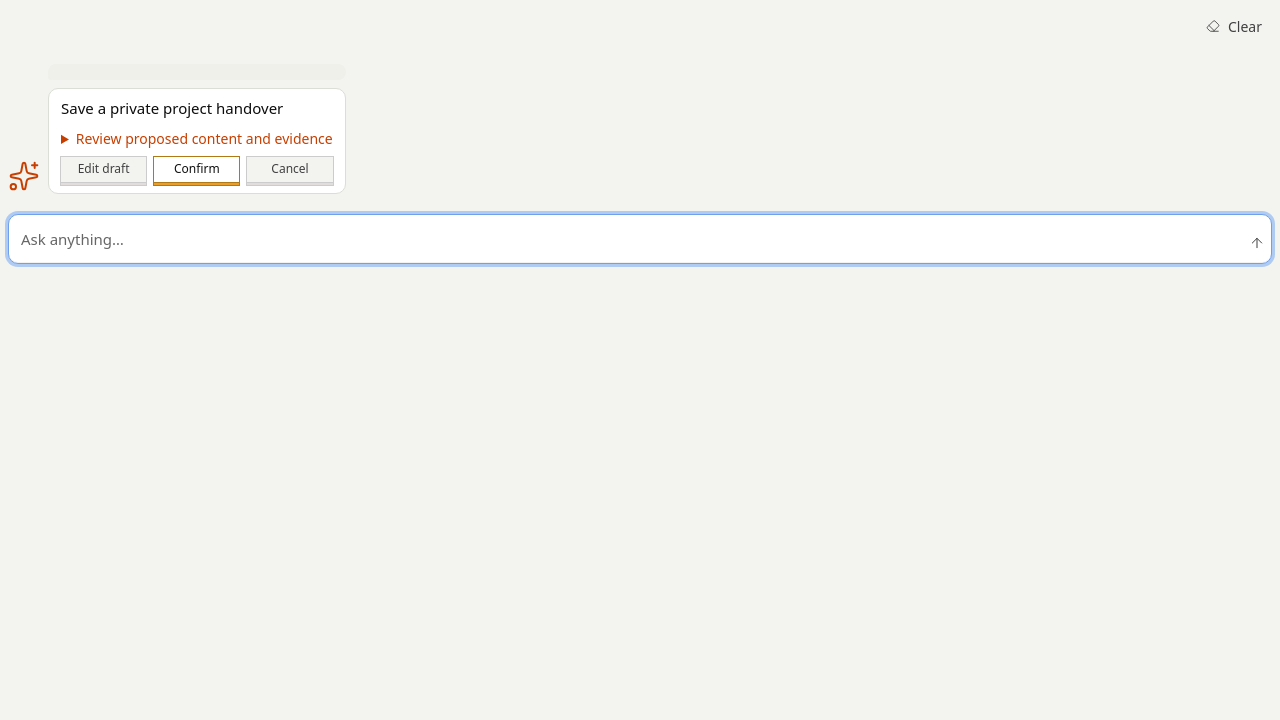
Test: integration draft review › shows the handover and source revisions without applying it
What coordinates should you click on to do the following:
click the heading "Review proposed content and evidence"
I would click on:
 (197, 138)
Its box is [61,128,333,148].
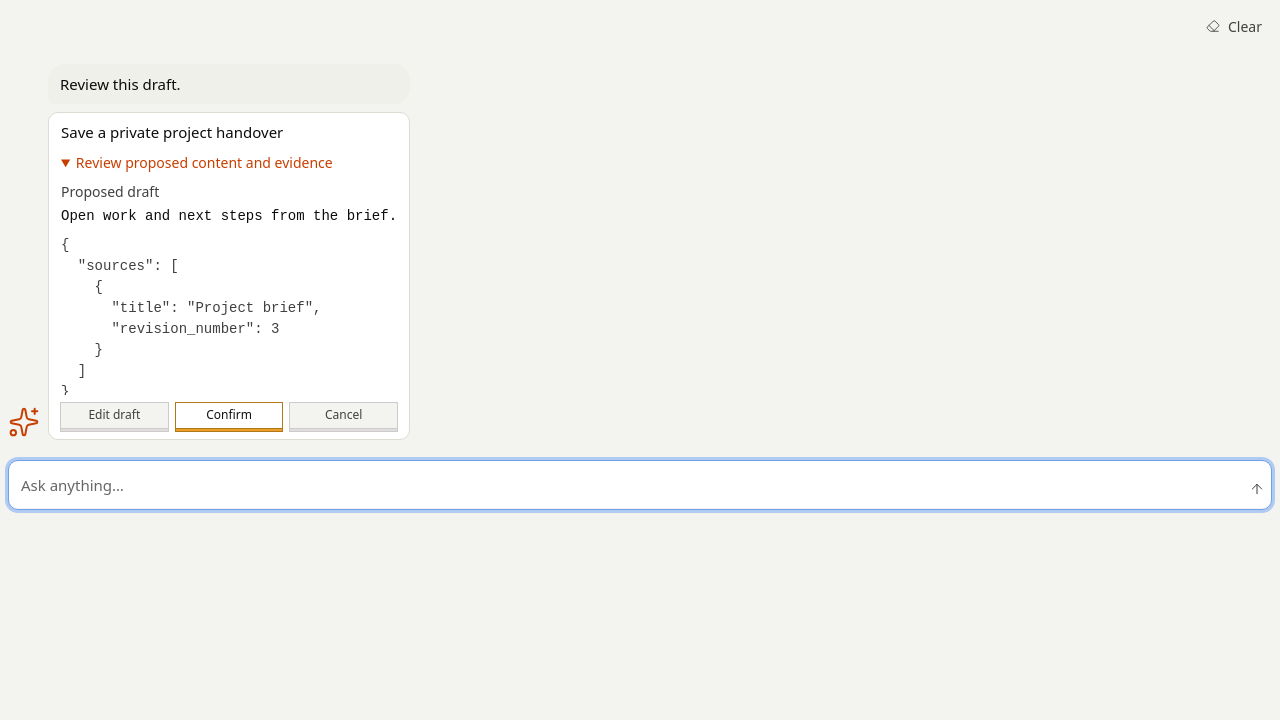
Expected: the text "Open work and next steps from the brief." is shown, [61,206,397,226]
Expected: the text "\"revision_number\": 3" is shown, [61,236,322,400]
